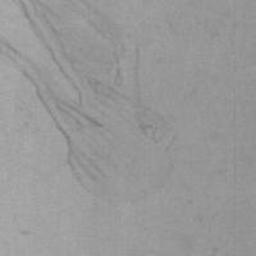Water spot: (0, 0, 182, 212)
